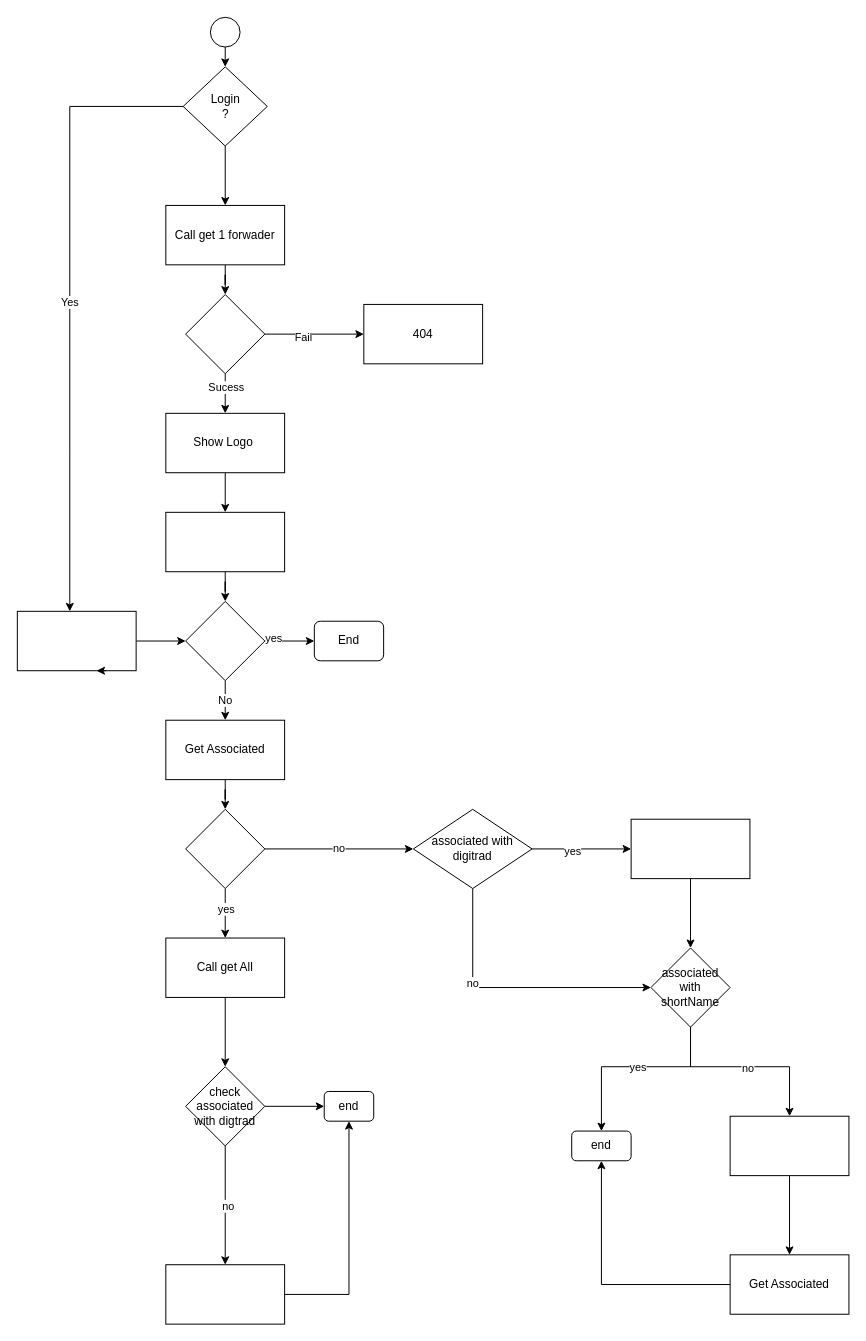
Image size: 866x1341. Some labels were removed from this diagram. The shapes that lost their labels are listed below. From the top down, each one's centre as x and y in pixels, then its label:
At point 225,541: "Login".
At point 76,640: "GetMe".
At point 225,640: "isForwader".
At point 225,848: "shortName digitrad".
At point 690,848: "Call get All forwarder".
At point 789,1145: "Call post associated".
At point 225,1294: "Call post".
